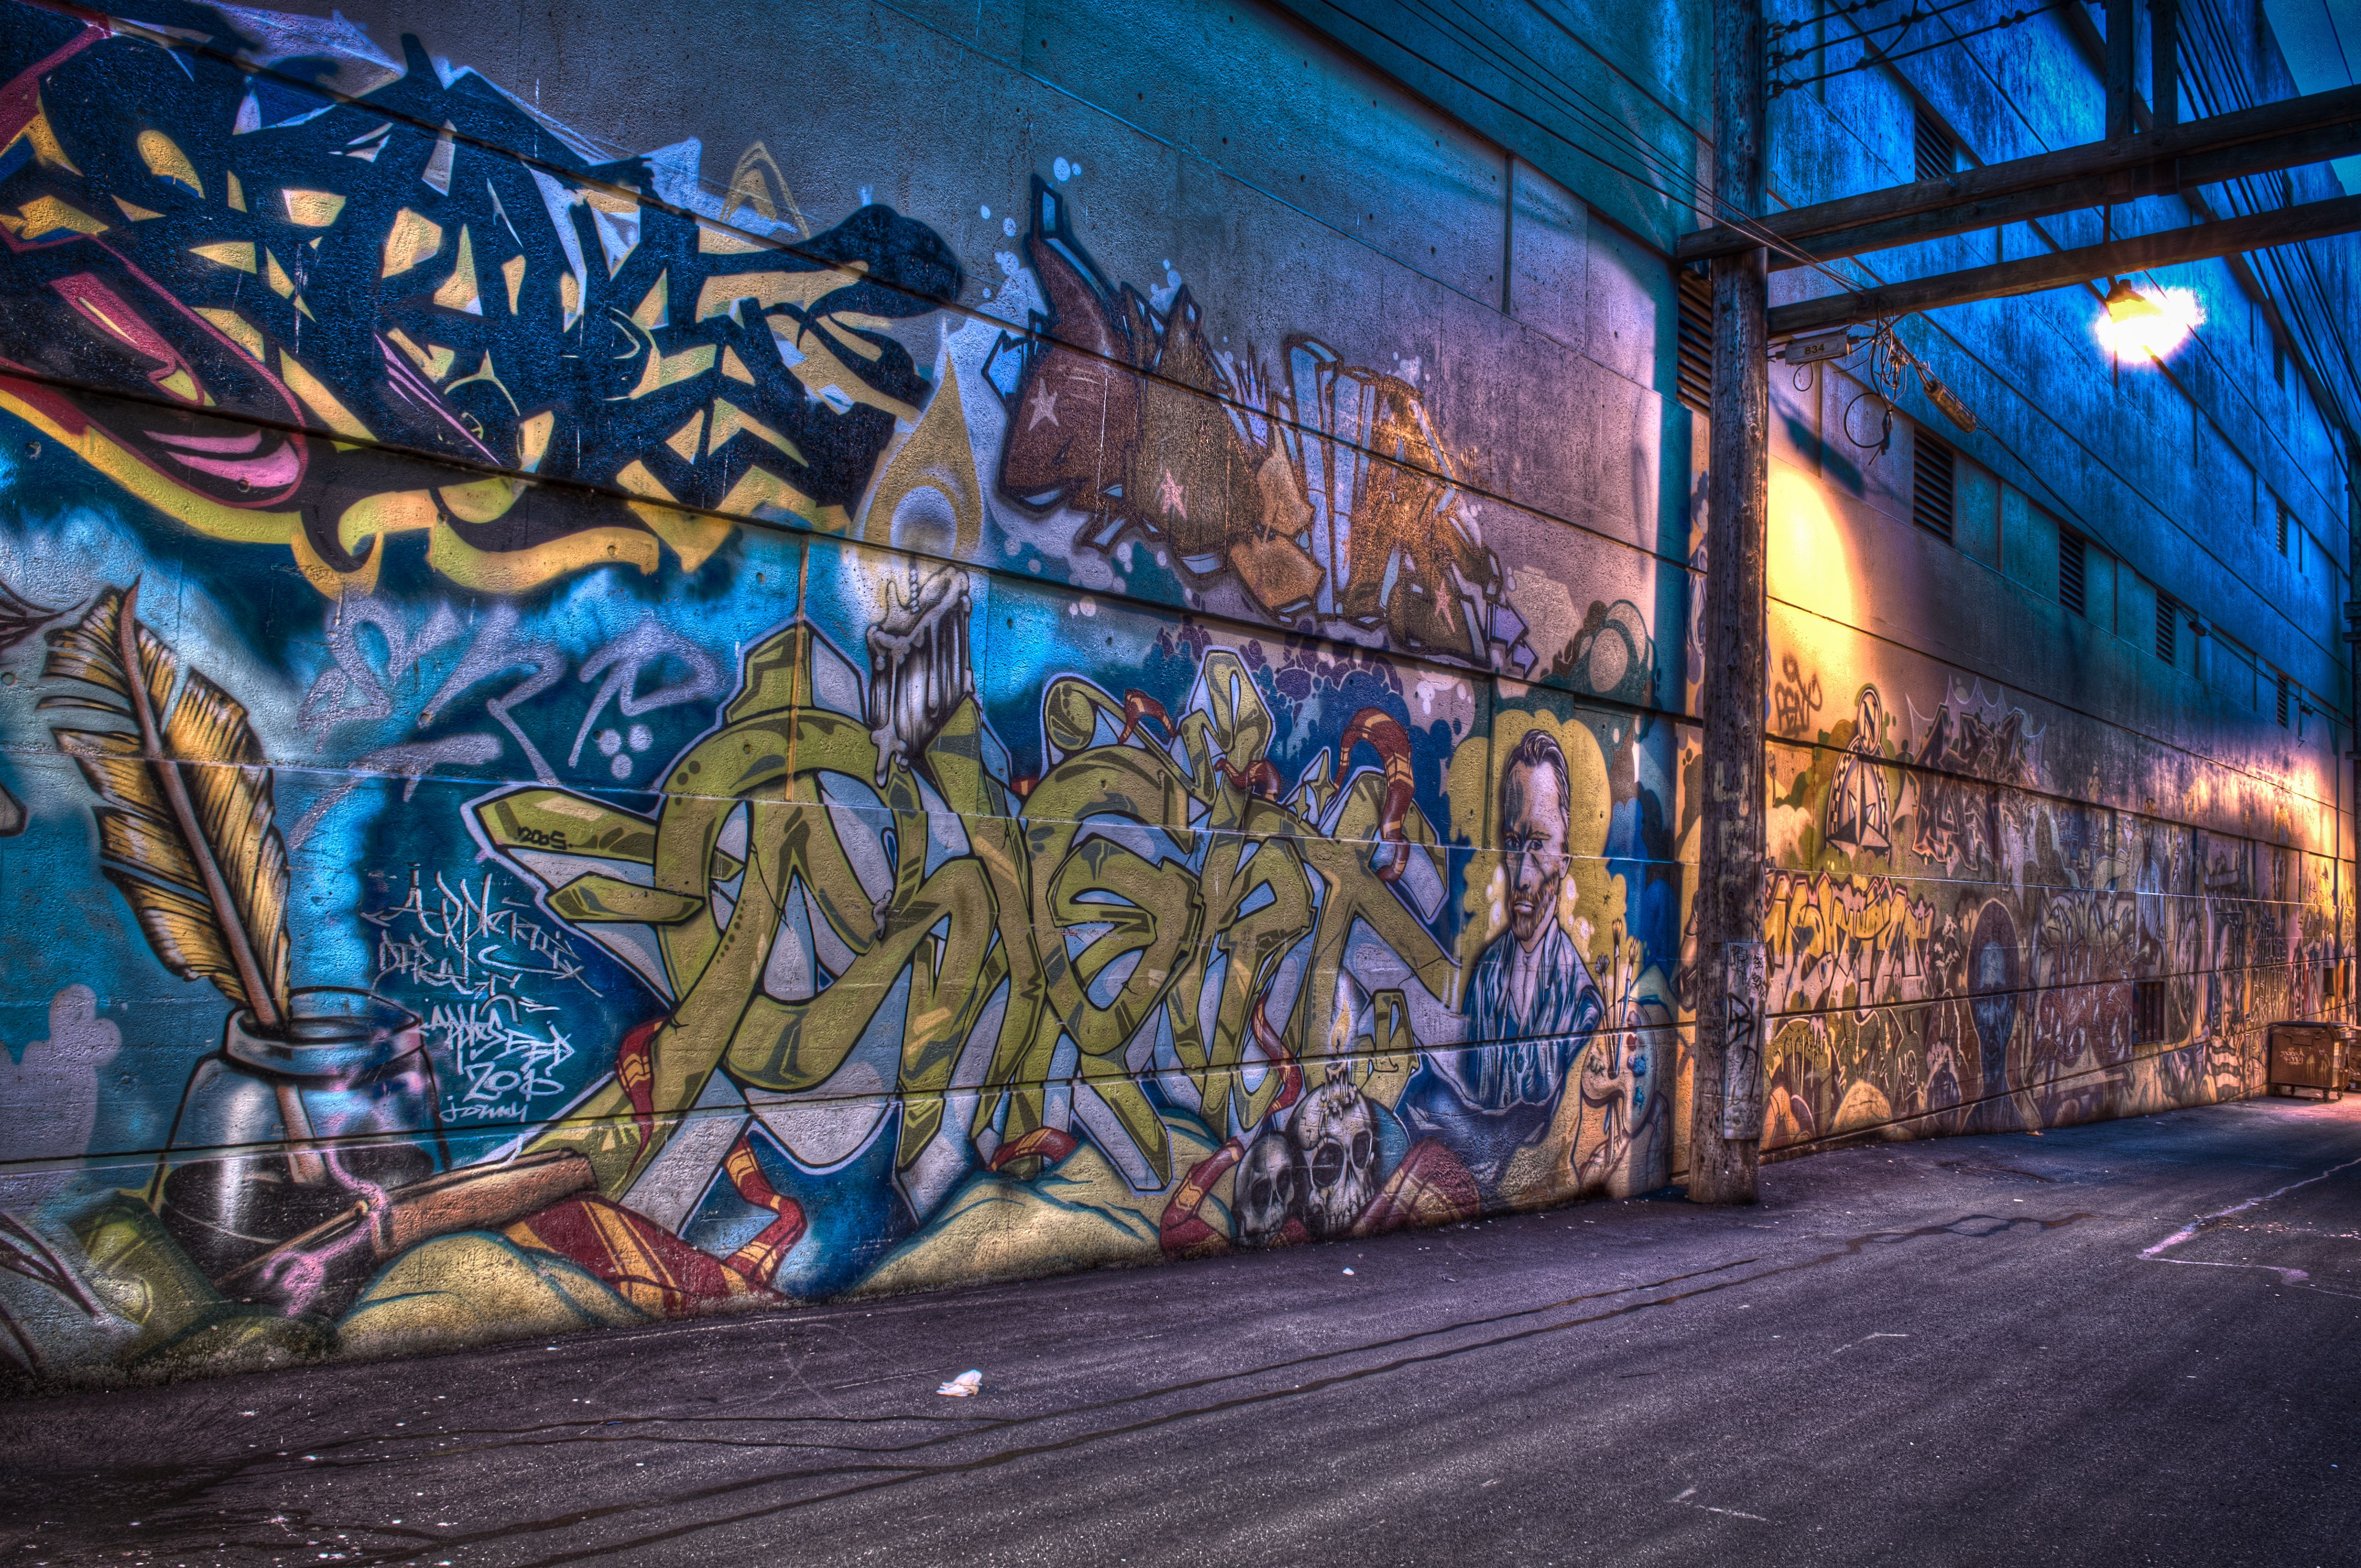graphite: (0, 52, 919, 595), (0, 572, 420, 1344), (642, 693, 1435, 1099), (1748, 672, 2345, 1129), (996, 229, 1573, 675), (1463, 735, 1633, 1125), (355, 857, 569, 1155)
